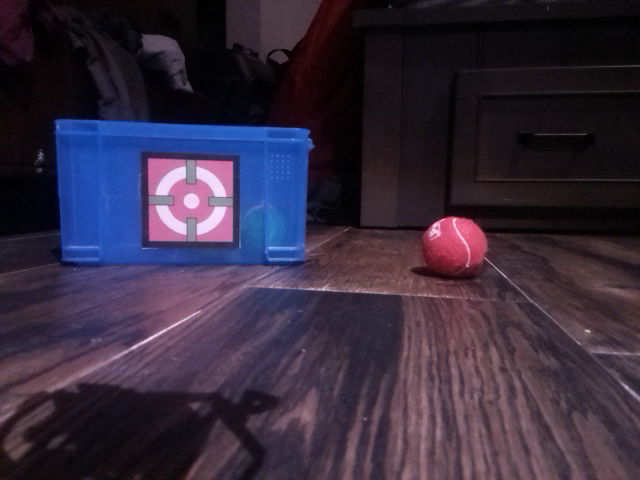drop-bin: (139, 149, 241, 250)
red-ball: (420, 214, 489, 279)
